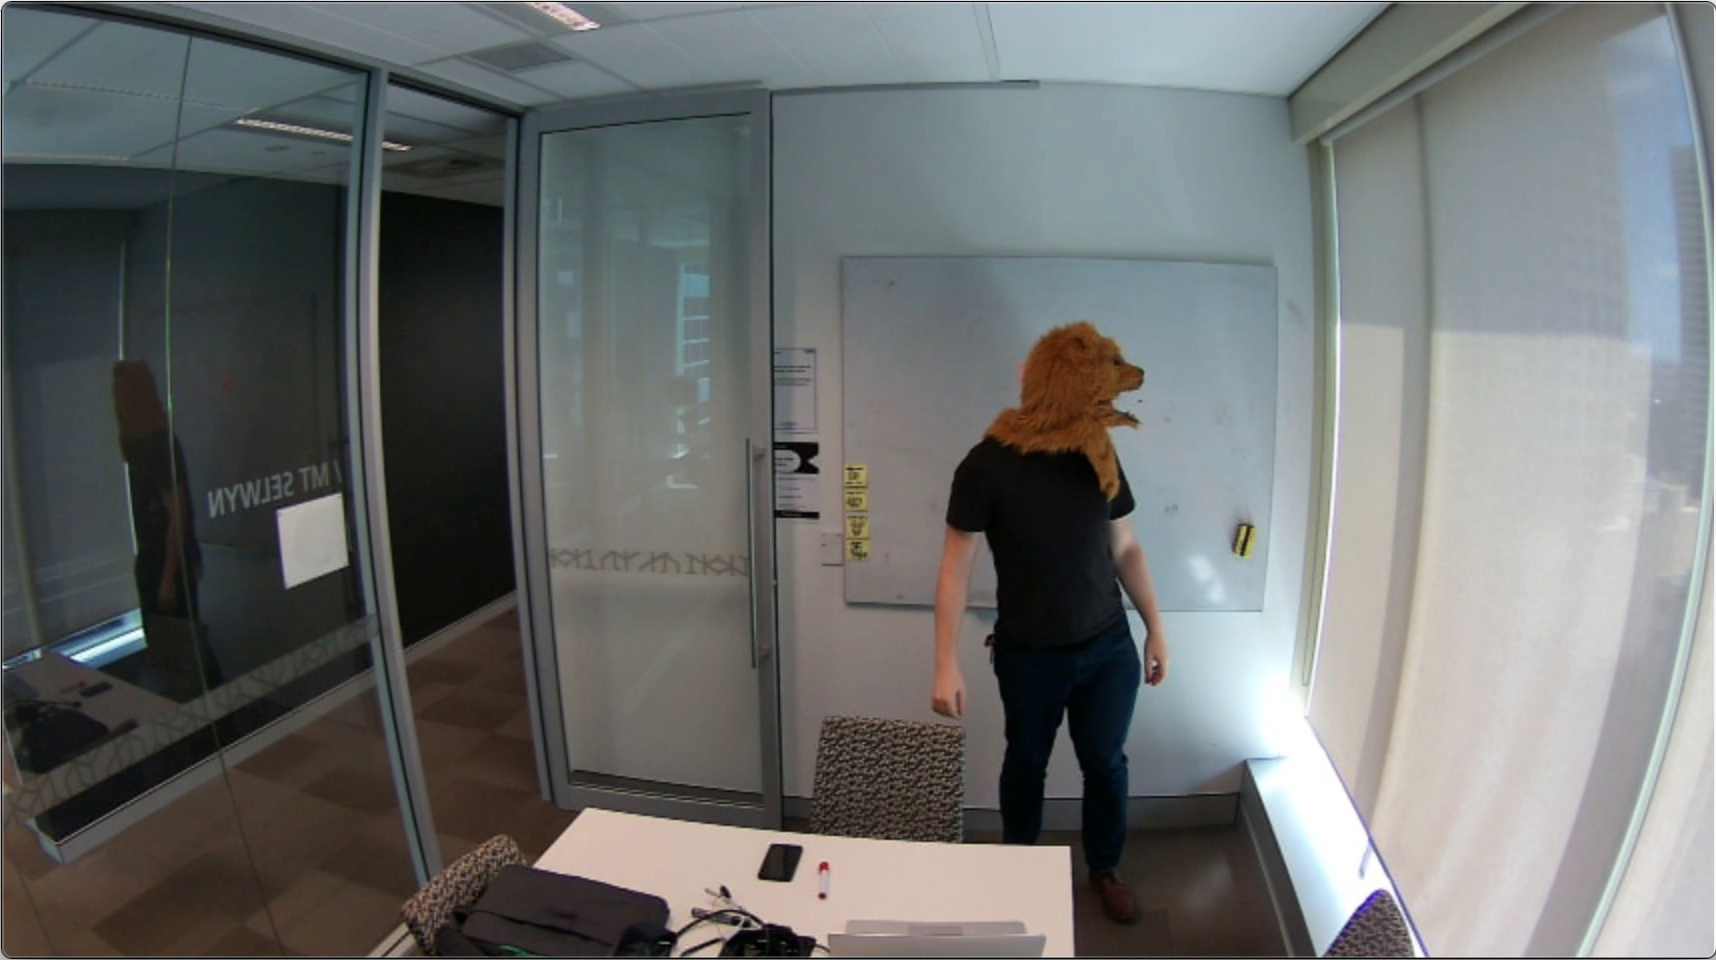Bear: (1016, 318, 1149, 439)
